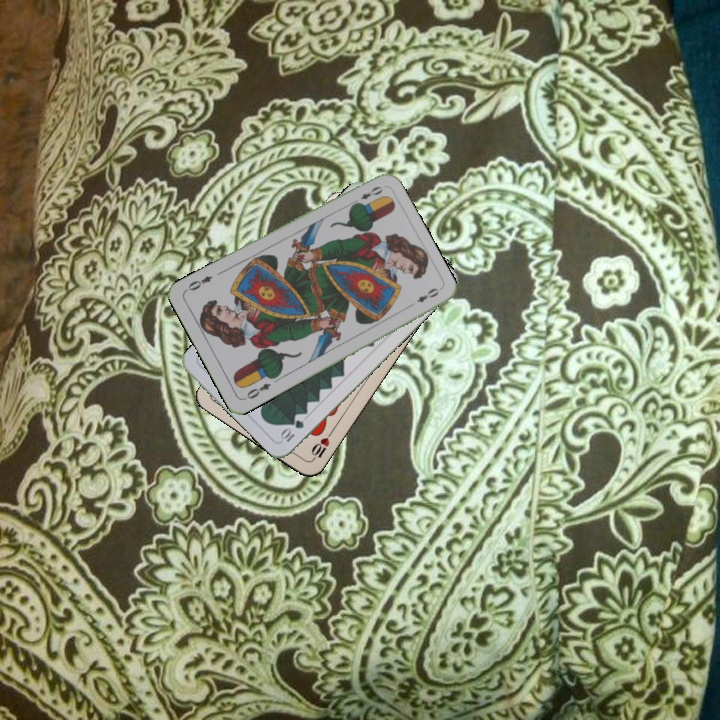EO: (348, 182, 385, 208), (240, 379, 273, 402)
G10: (276, 416, 307, 445)
H10: (307, 427, 335, 463)
